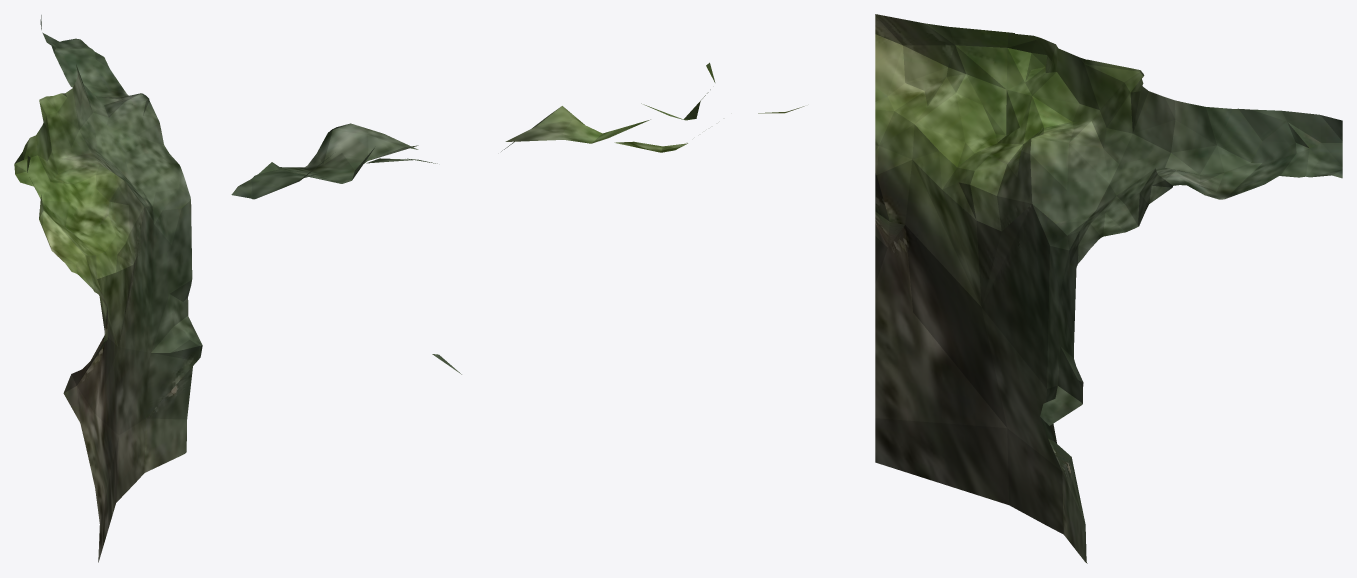
3 views of the same model, side by side, from view 1: azimuth 30°, elevation 25°; view 2: azimuth 150°, elevation 25°; view 3: azimuth 270°, elevation 25° (orthographic). The views are drawn at different scales.
Bounding box in the file's own units: 1.92 × 2.95 × 2.95.
Materials: 2 (2 with a texture image).
